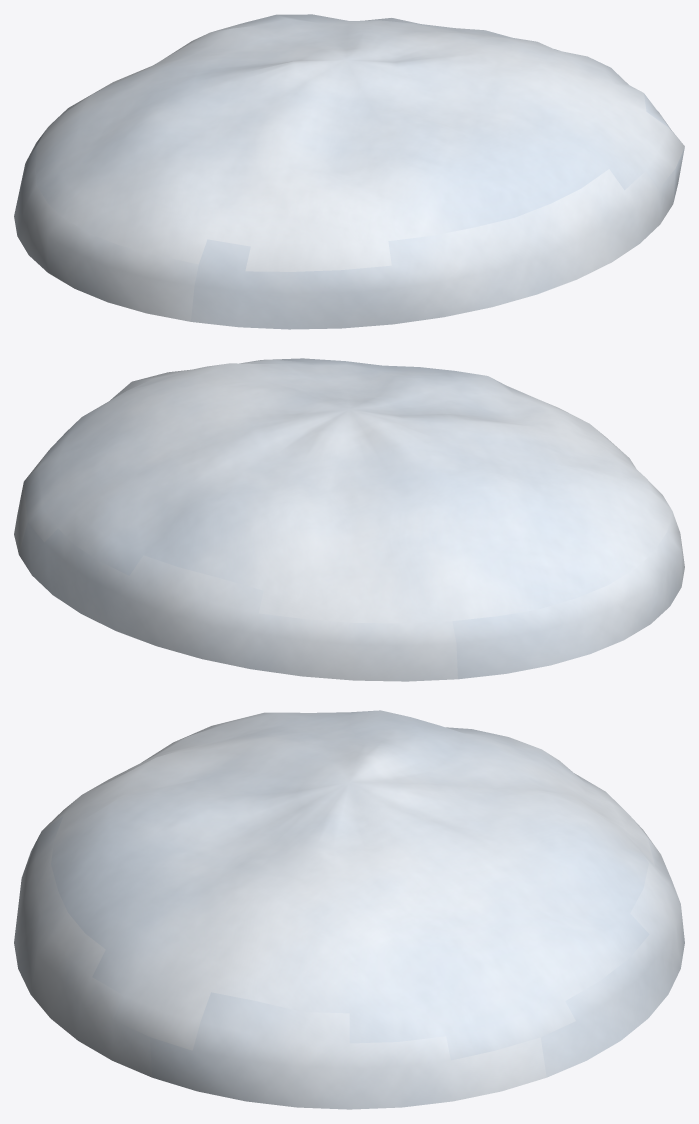
The model's file is SM_SnowMound_A.fbx.
The picture shows the model from 3 angles, top to bottom: view 1: azimuth 30°, elevation 25°; view 2: azimuth 150°, elevation 25°; view 3: azimuth 270°, elevation 25°; orthographic projection. The views are drawn at different scales.
Visible parts, largest first — view 1: SM_SnowMound_A; view 2: SM_SnowMound_A; view 3: SM_SnowMound_A.
Boxes of the visible parts, <box> form: SM_SnowMound_A: <box>14,14,684,329</box>; SM_SnowMound_A: <box>14,358,684,681</box>; SM_SnowMound_A: <box>14,710,684,1109</box>.
Size of what is drawn, in the model's own units: 204 by 240 by 54.39.
